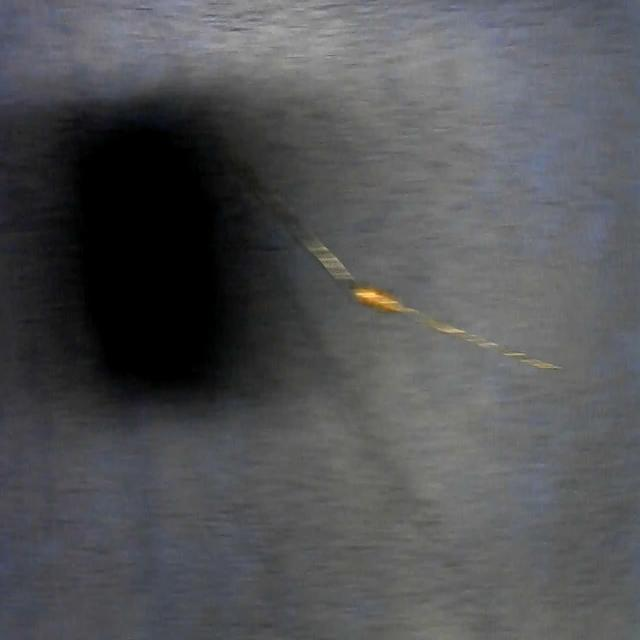resistor: (290, 221, 562, 375)
